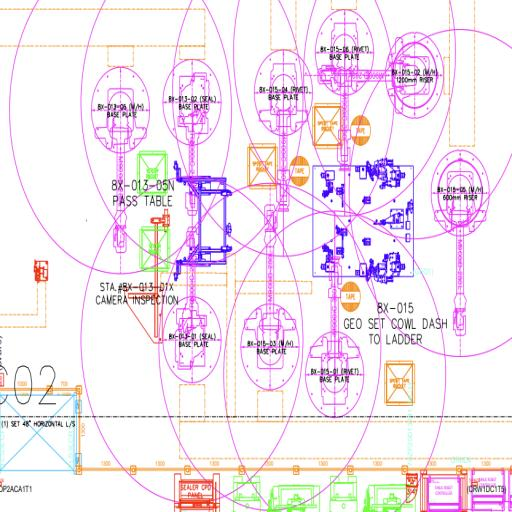robot: (429, 147, 490, 342), (90, 66, 150, 257), (252, 47, 314, 214), (161, 55, 224, 219), (316, 8, 376, 172), (305, 256, 365, 419), (161, 224, 221, 386)
